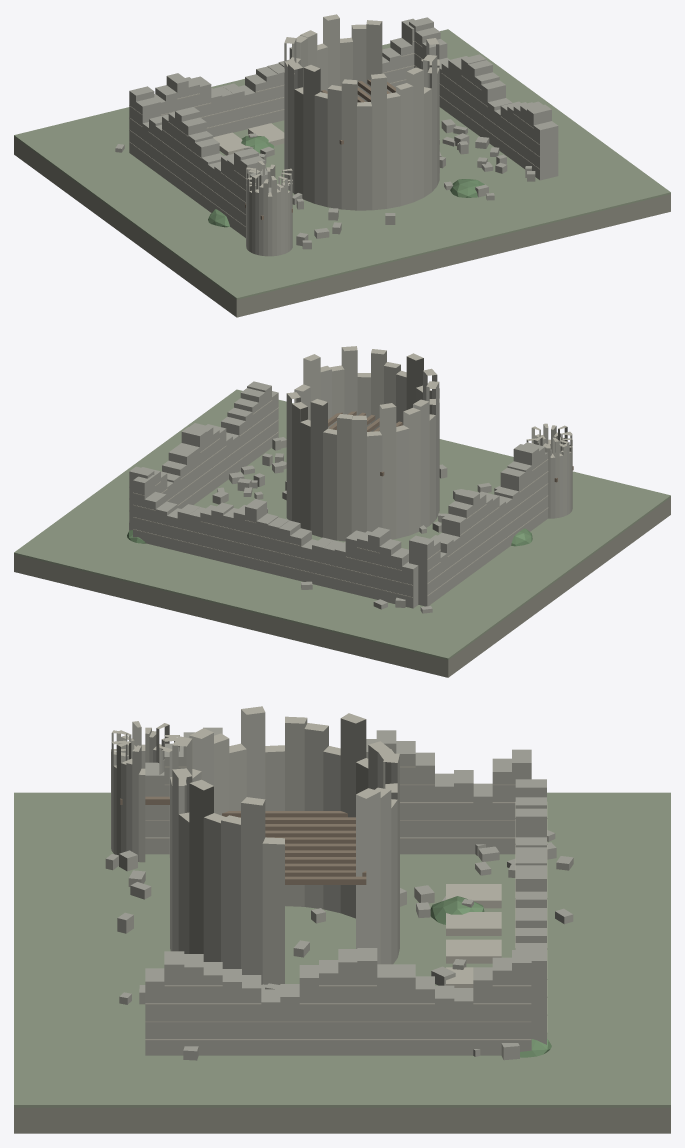
Rendered from ruin-3.glb.
3 renders of one model, top to bottom at view 1: azimuth 30°, elevation 25°; view 2: azimuth 150°, elevation 25°; view 3: azimuth 270°, elevation 25°, orthographic. The views are drawn at different scales.
Visible parts, largest first — view 1: دژ حلقوی ویران; view 2: دژ حلقوی ویران; view 3: دژ حلقوی ویران.
Boxes of the visible parts, bbox=[...] form: دژ حلقوی ویران: bbox=[14, 14, 670, 317]; دژ حلقوی ویران: bbox=[14, 346, 670, 677]; دژ حلقوی ویران: bbox=[14, 706, 670, 1133].
Bounding box in the file's own units: 9 × 3.01 × 8.
